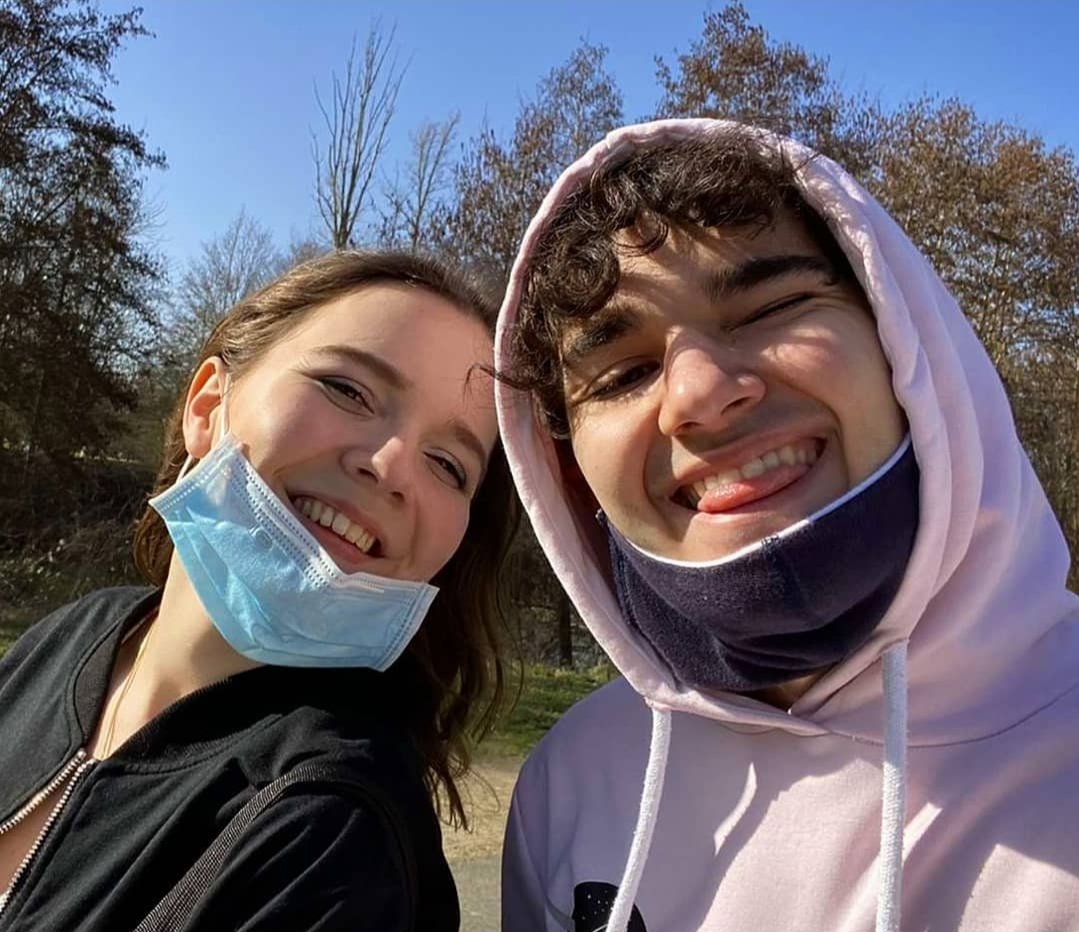mask_weared_incorrect: (550, 223, 933, 694), (183, 296, 498, 672)
